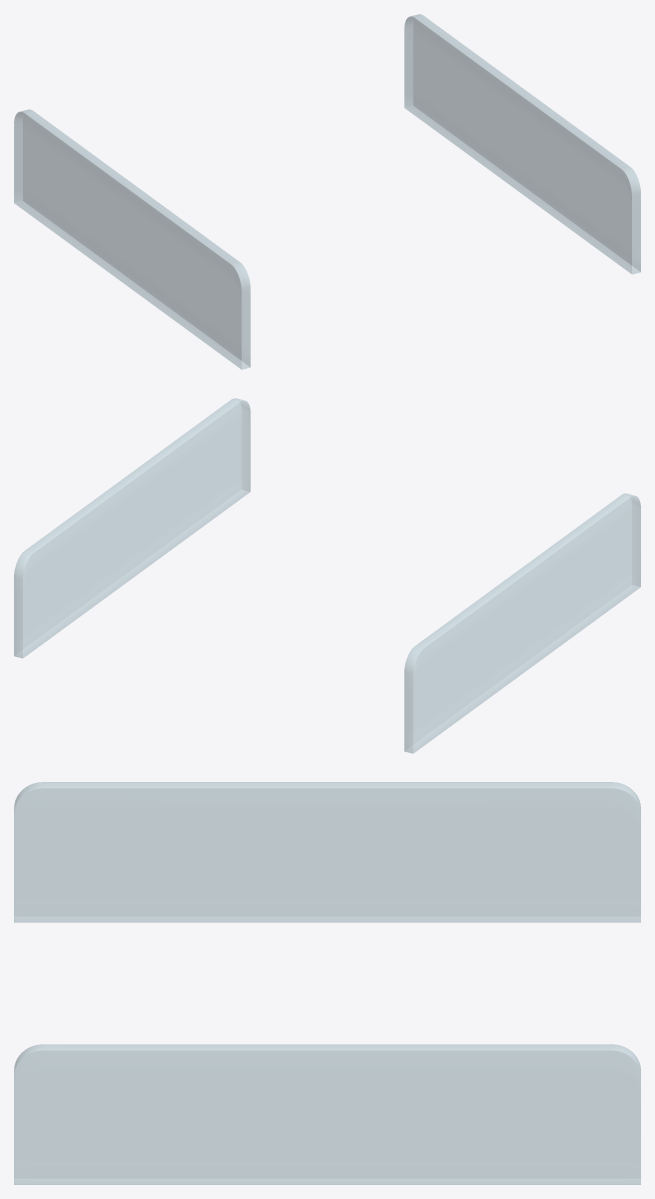
The model's file is SM_GlassWall_Block_Straight.fbx.
The picture shows the model from 3 angles, top to bottom: view 1: azimuth 30°, elevation 25°; view 2: azimuth 150°, elevation 25°; view 3: azimuth 270°, elevation 25°; orthographic projection. The views are drawn at different scales.
Parts seen in each view (by area): view 1: SM_GlassWall_Block_Straight; view 2: SM_GlassWall_Block_Straight; view 3: SM_GlassWall_Block_Straight.
Part boxes in pixels (x1,y1,x2,y2): SM_GlassWall_Block_Straight: [14, 14, 640, 369]; SM_GlassWall_Block_Straight: [14, 398, 640, 753]; SM_GlassWall_Block_Straight: [14, 782, 640, 1184].
Size of the model in its own units: 1.96 by 0.46 by 1.94.
